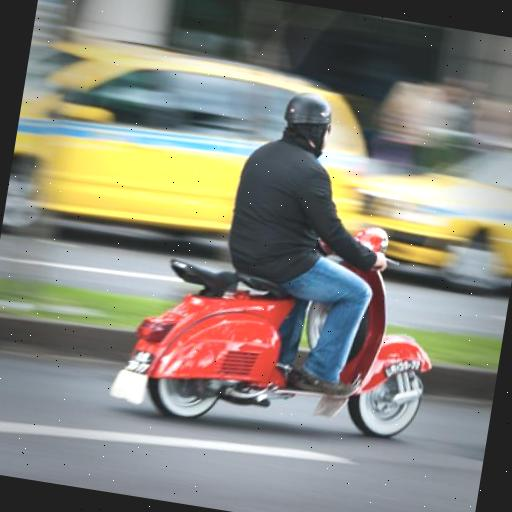helmet: (112, 55, 470, 450)
